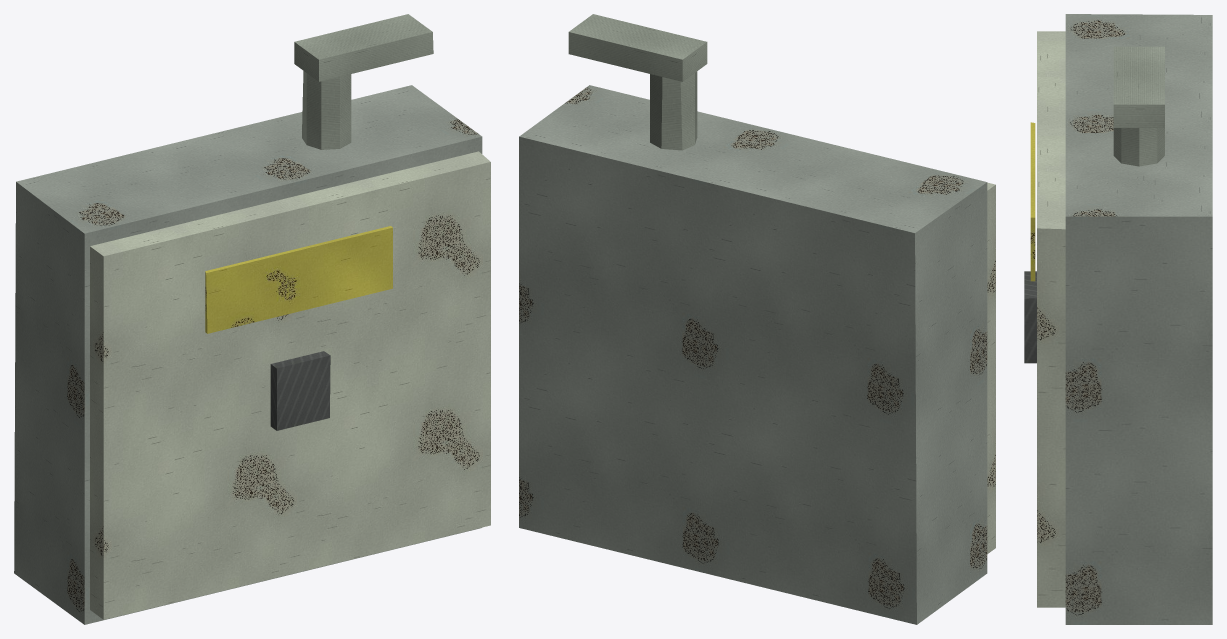
The model's file is utilbox_v1.glb.
The picture shows the model from 3 angles, left to right: view 1: azimuth 30°, elevation 25°; view 2: azimuth 150°, elevation 25°; view 3: azimuth 270°, elevation 25°; orthographic projection. The views are drawn at different scales.
Parts seen in each view (by area): view 1: Variant_utilbox_1; view 2: Variant_utilbox_1; view 3: Variant_utilbox_1.
Part boxes in pixels (box(x1,y1,x2,y2)): Variant_utilbox_1: box(14, 14, 490, 624); Variant_utilbox_1: box(519, 14, 995, 624); Variant_utilbox_1: box(1024, 14, 1212, 624).
Bounding box in the file's own units: 0.3 × 0.35 × 0.118.
Materials: 5 (5 with a texture image).
